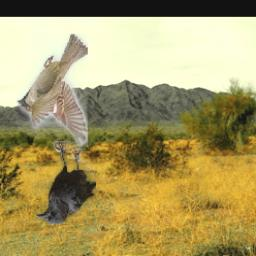Crow: (36, 142, 97, 225)
Sparrow: (18, 35, 89, 148)
